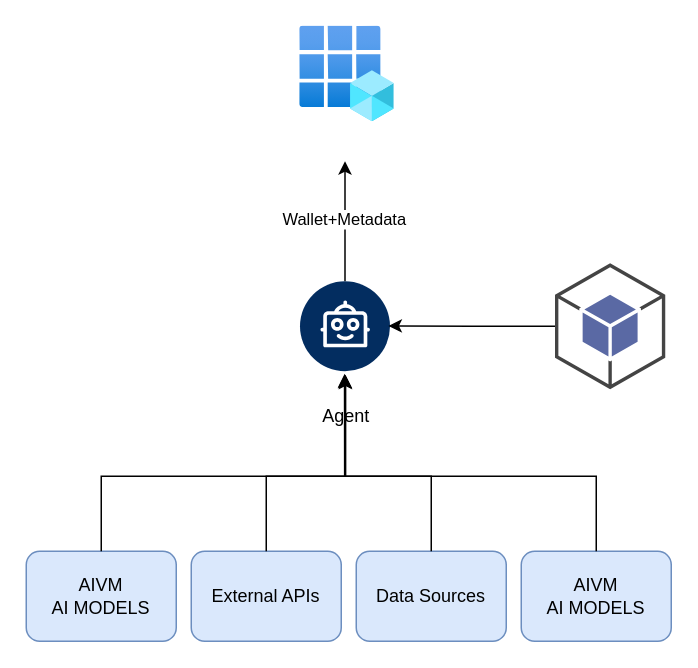
Some shapes in this 698 by 668 pixel diagram are drawn without their labels. Each missing label, with the box of its shape:
Framework: (554, 262, 665, 389)
Onchain Agent Registry: (299, 26, 394, 122)
